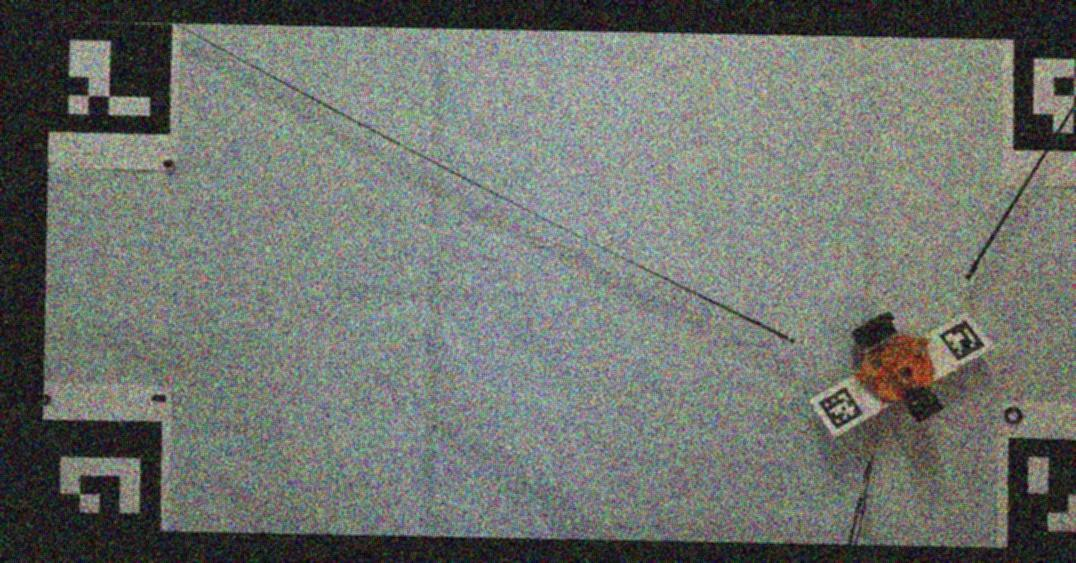robot: (850, 311, 945, 423)
